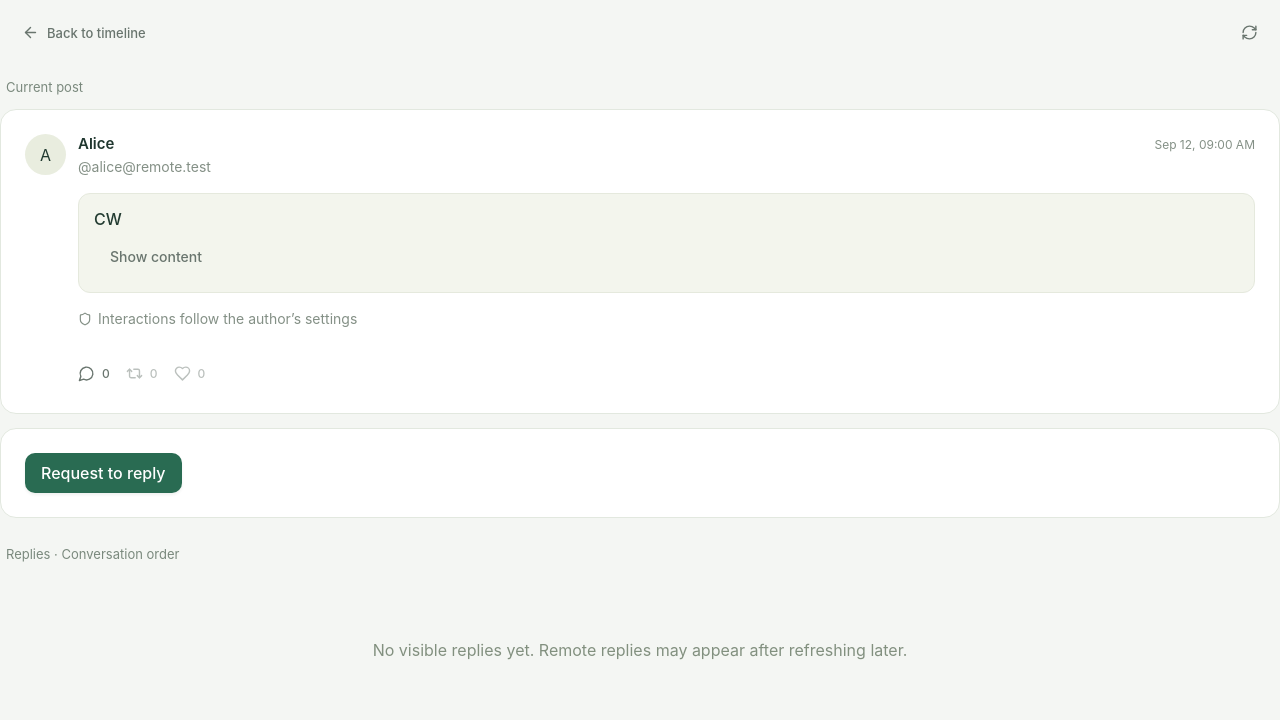
thread reply flow › ignores a stale detail response after selecting another post
Click the button "Show content": (156, 257) top-left (94, 237), bottom-right (218, 277)
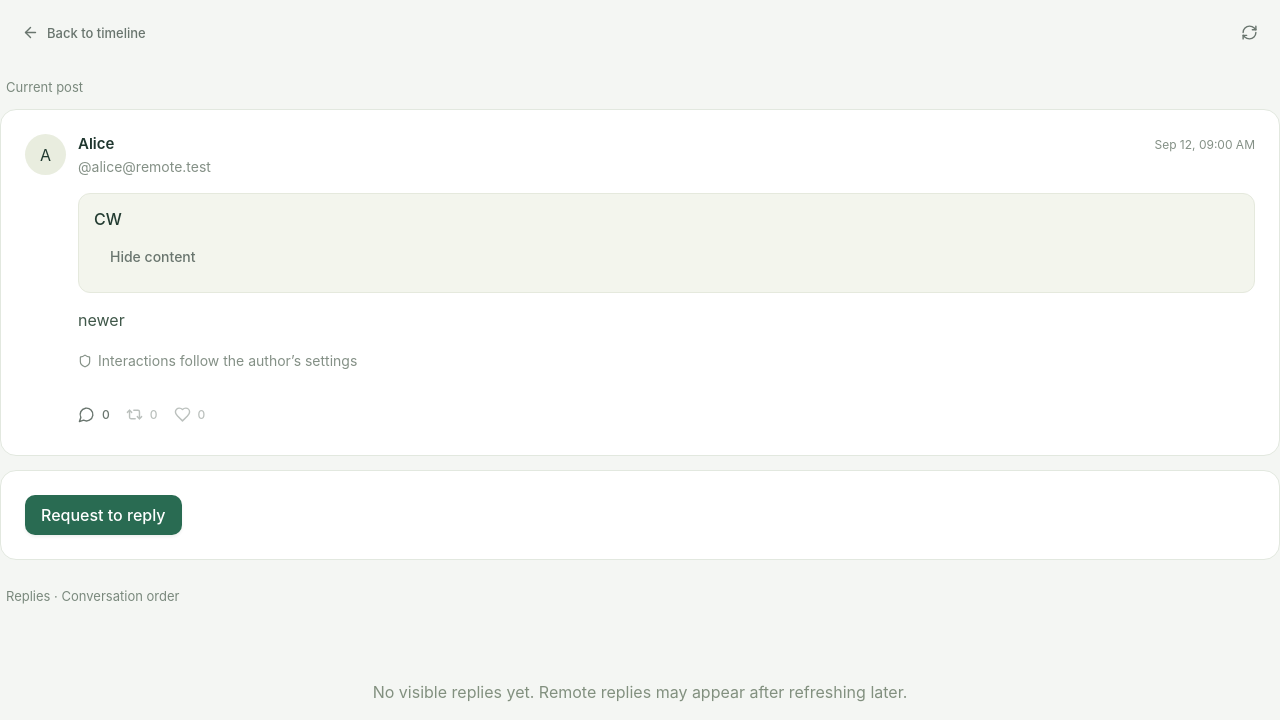
Result: the text "newer" is shown at top-left (78, 310), bottom-right (125, 330)
